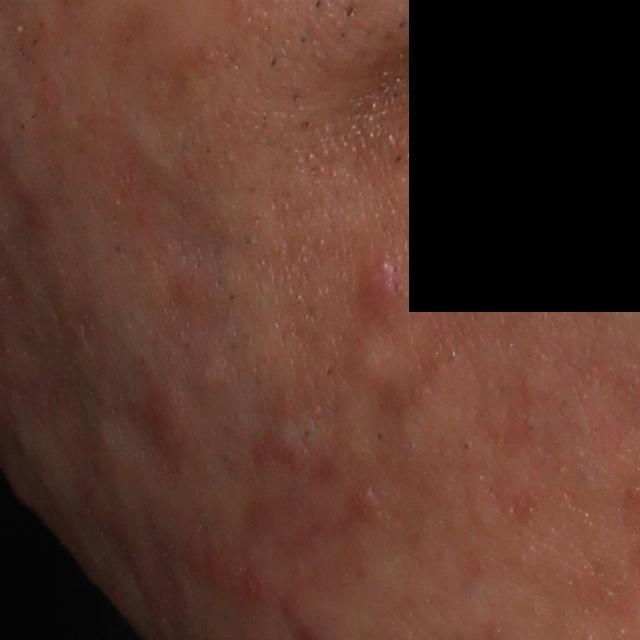hypertrophic_scar: (116, 116, 204, 216), (337, 334, 413, 387), (189, 342, 238, 397)
papule: (352, 242, 410, 314), (140, 384, 180, 436), (350, 485, 378, 523)
